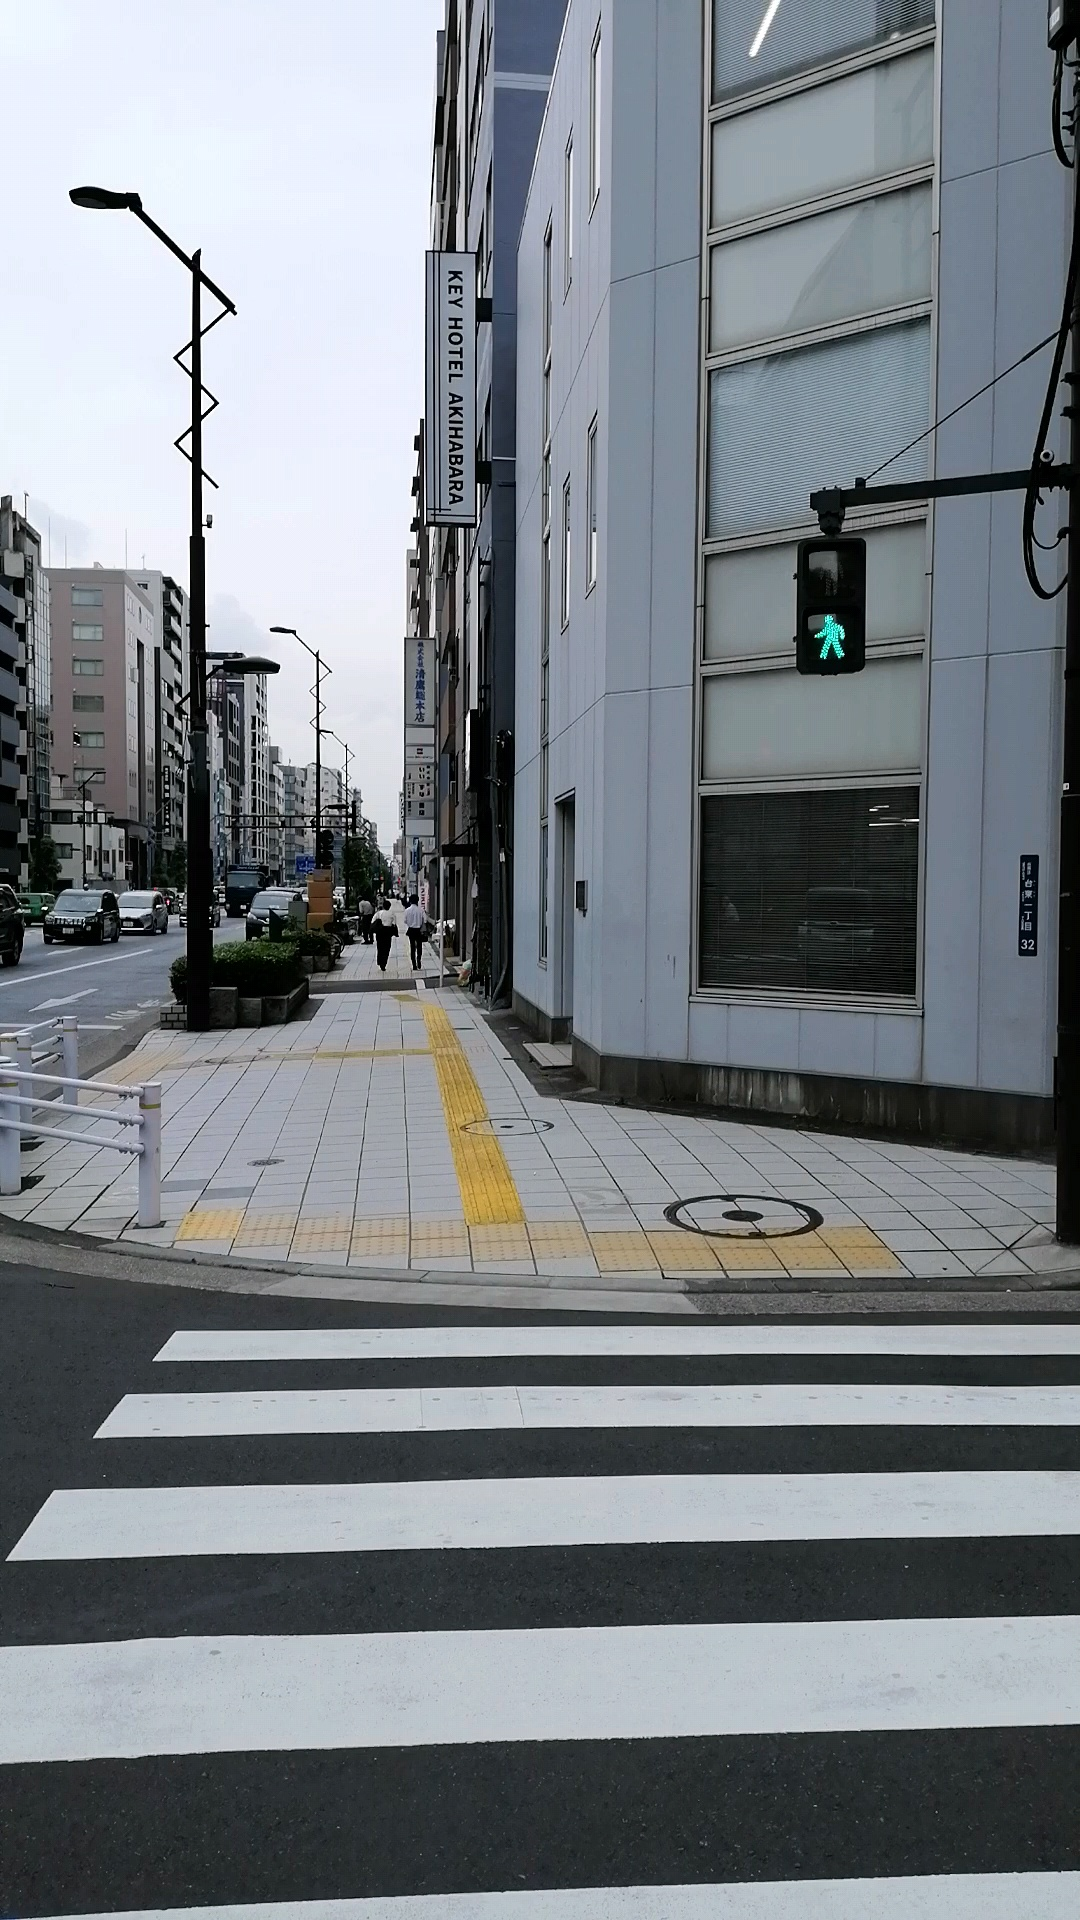green: (795, 537, 865, 675)
